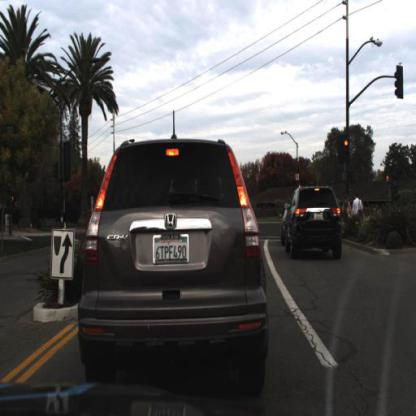car: (77, 134, 271, 390), (284, 188, 344, 258), (399, 195, 416, 216), (343, 198, 353, 223)
pedestrian: (353, 193, 362, 228), (344, 194, 351, 220)
trafficLight-Red: (344, 141, 350, 161)
